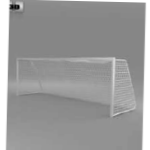goals: (14, 56, 138, 121)
